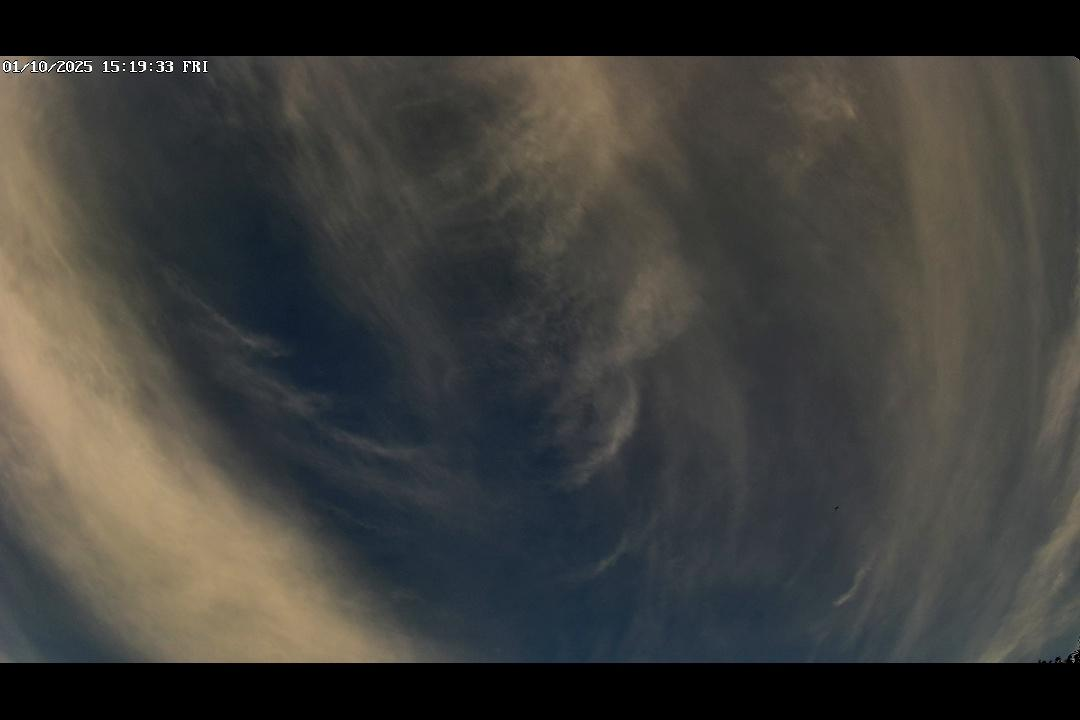Plane: (831, 502, 842, 513)
